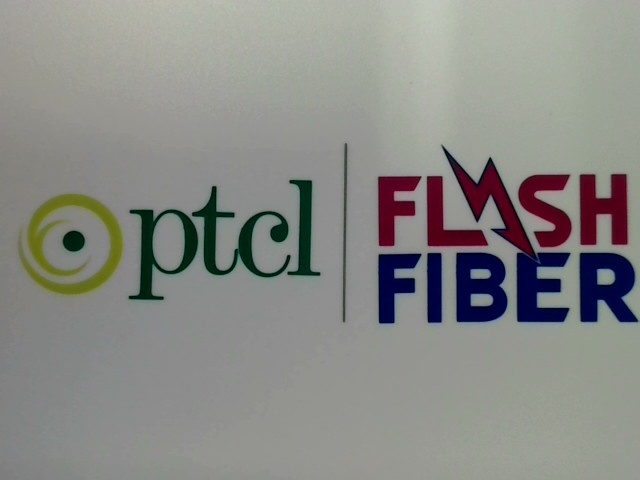BF_PTCL: (5, 169, 330, 315)
